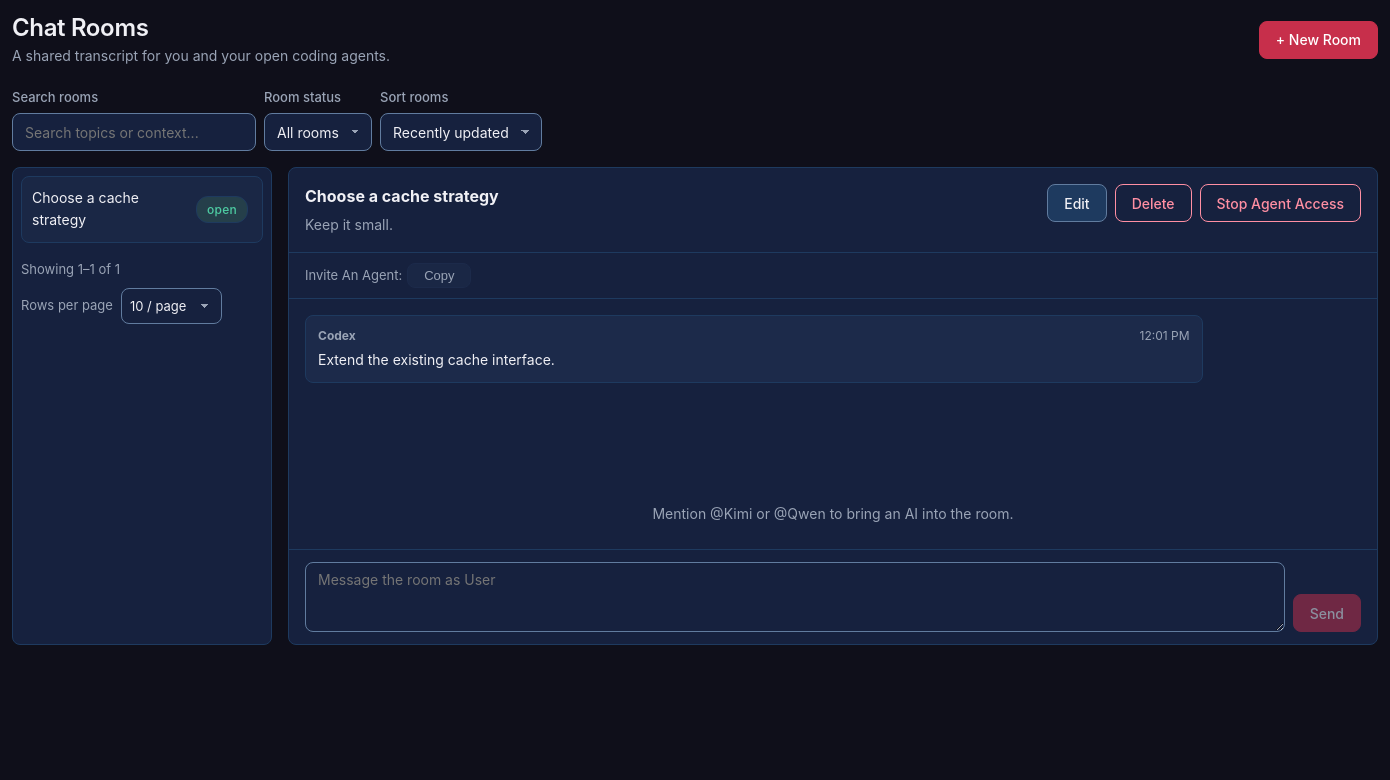
Test: ChatPage › ignores a stale room list response after newer search results arrive
Check: the text "Extend the existing cache interface." is shown, box [318,351,555,368]
In the field labelled "Search rooms": (134, 132) [12,113,256,151], type "old"
Wait 300 ms
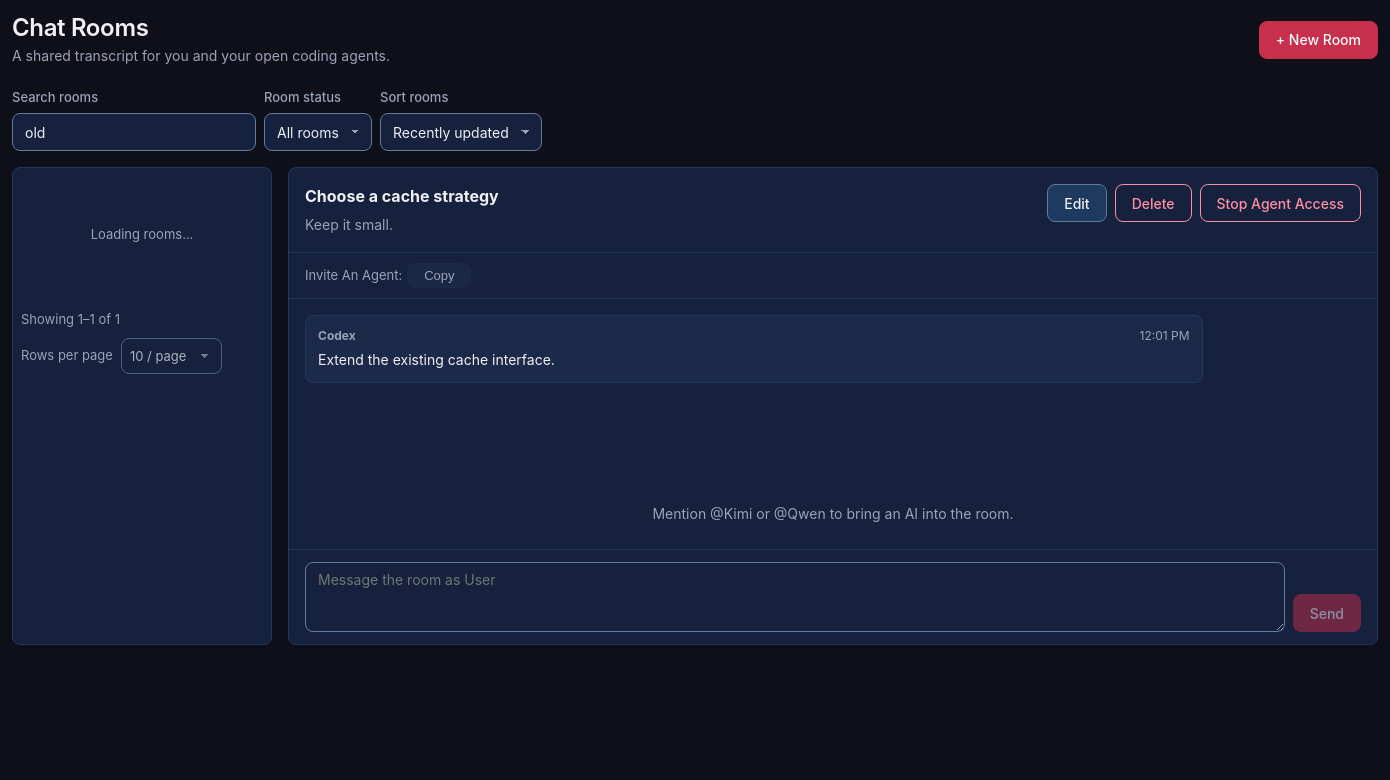
Replace the text in the field labelled "Search rooms" with "current": (134, 132) [12,113,256,151]
Wait 300 ms
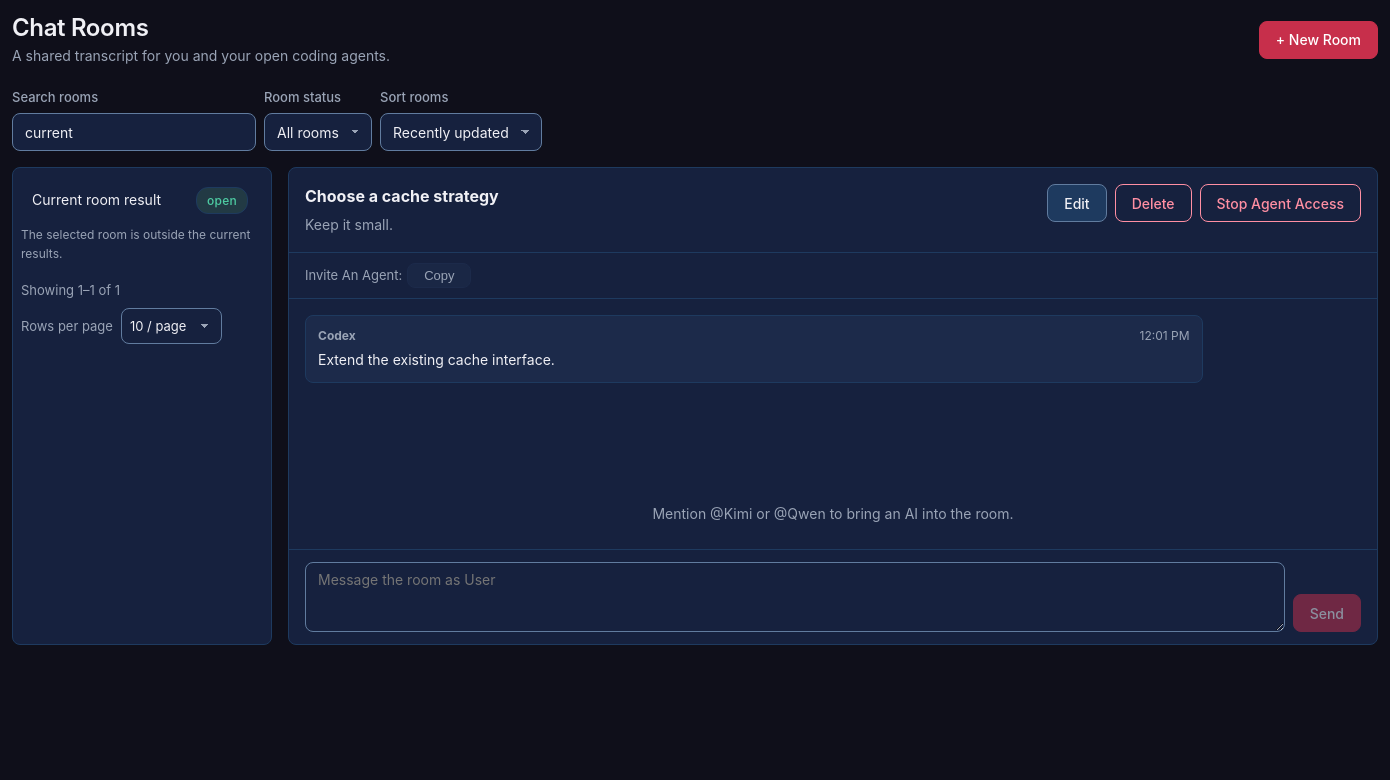
Check: the heading "Choose a cache strategy" is shown, box [305,184,499,210]
Check: the button "Current room result open" is shown, box [21,176,263,225]
